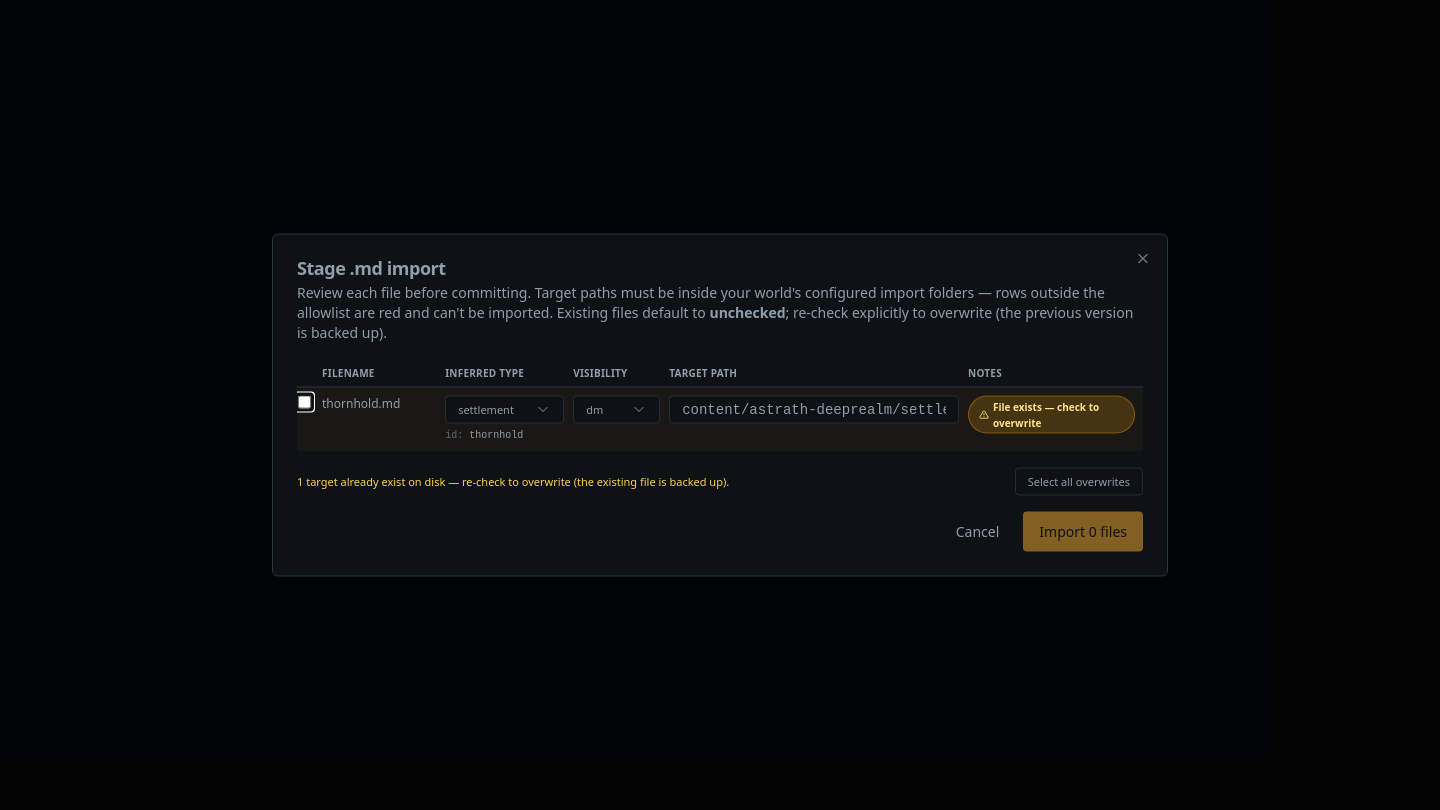
ImportStagingModal › path-collision row defaults unchecked, shows warning badge, and re-check enables overwrite
Check: the text "File exists — check to overwrite" is shown, box [968,396,1135,434]
Click the checkbox named "Include thornhold.md".
click(304, 402)  # box [298,396,311,408]
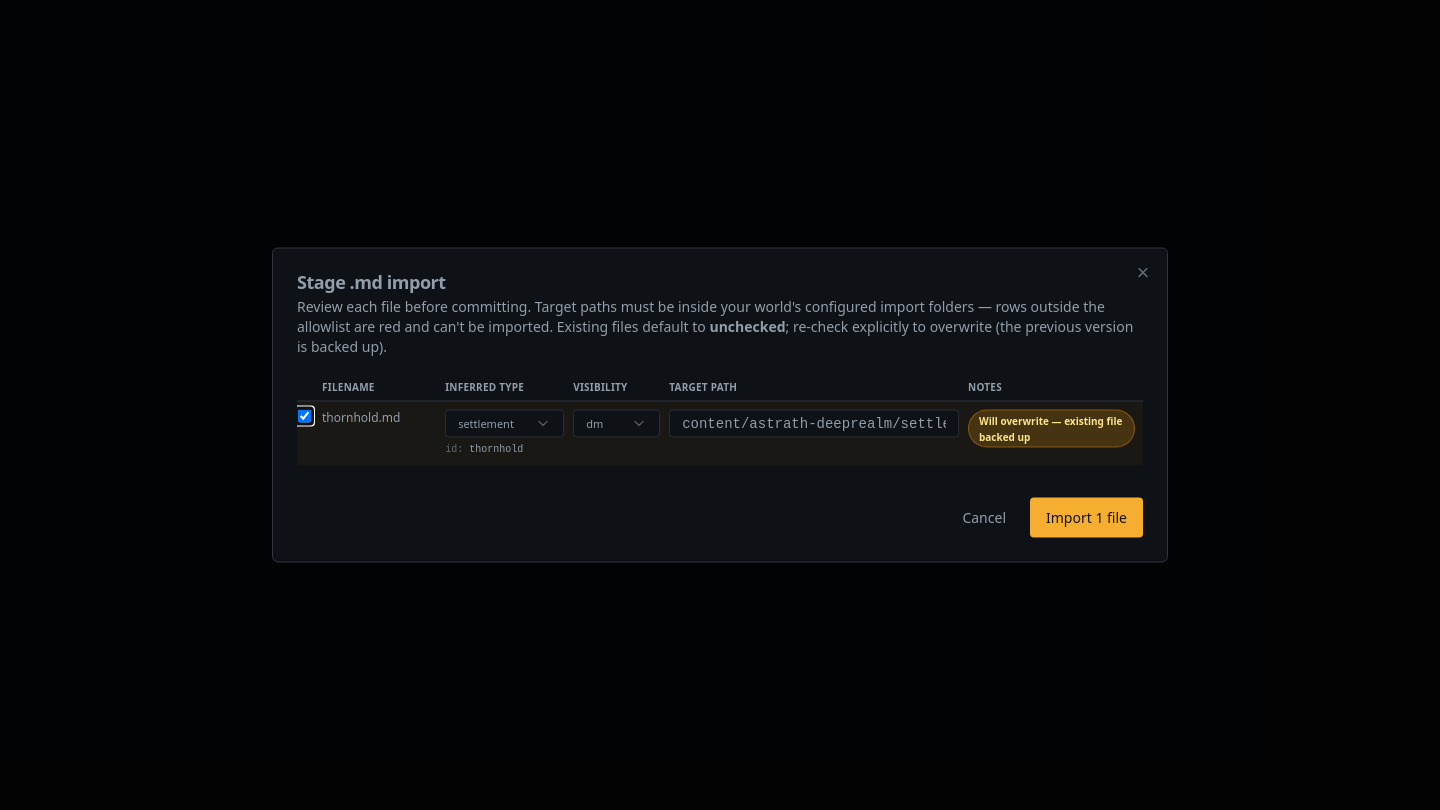
Check: the checkbox named "Include thornhold.md" is checked, box [298,410,311,422]
Check: the text "Will overwrite — existing file backed up" is shown, box [968,410,1135,448]
